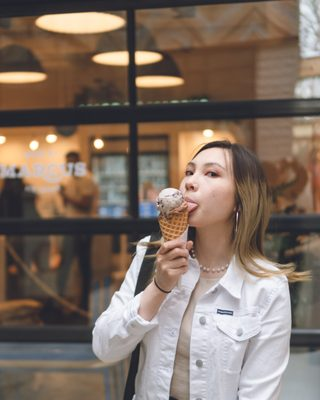salad: (156, 188, 190, 242)
